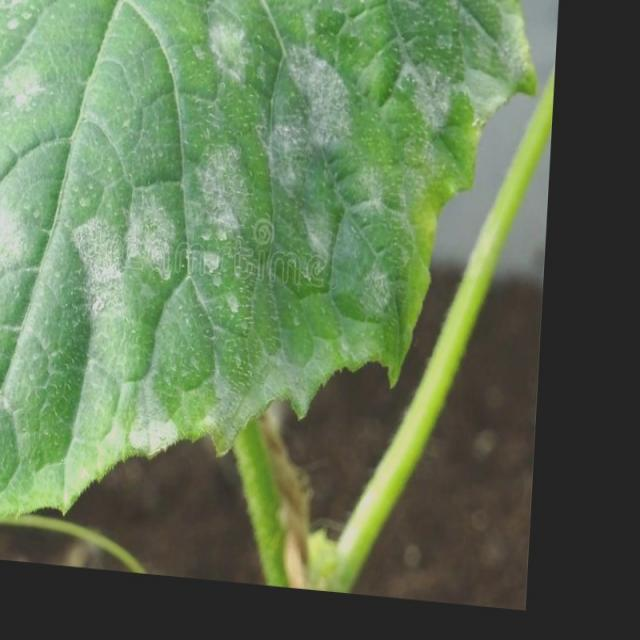Leaf_Mold: (0, 0, 384, 512), (260, 0, 540, 390)
